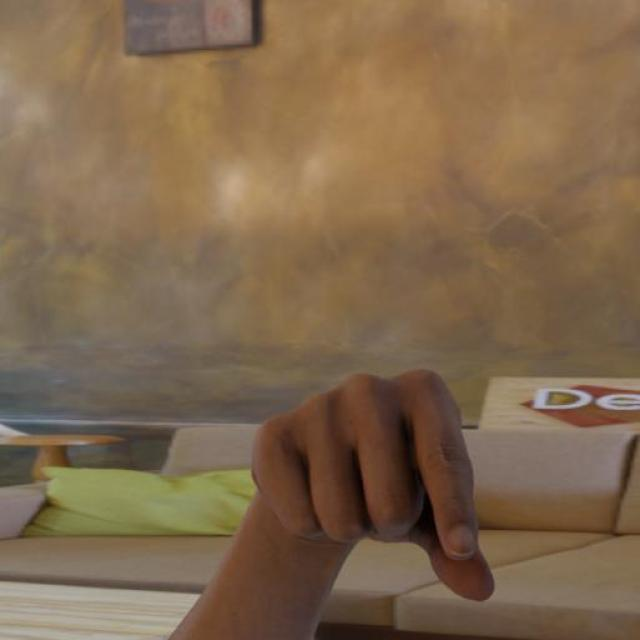Q: (232, 366, 508, 610)
